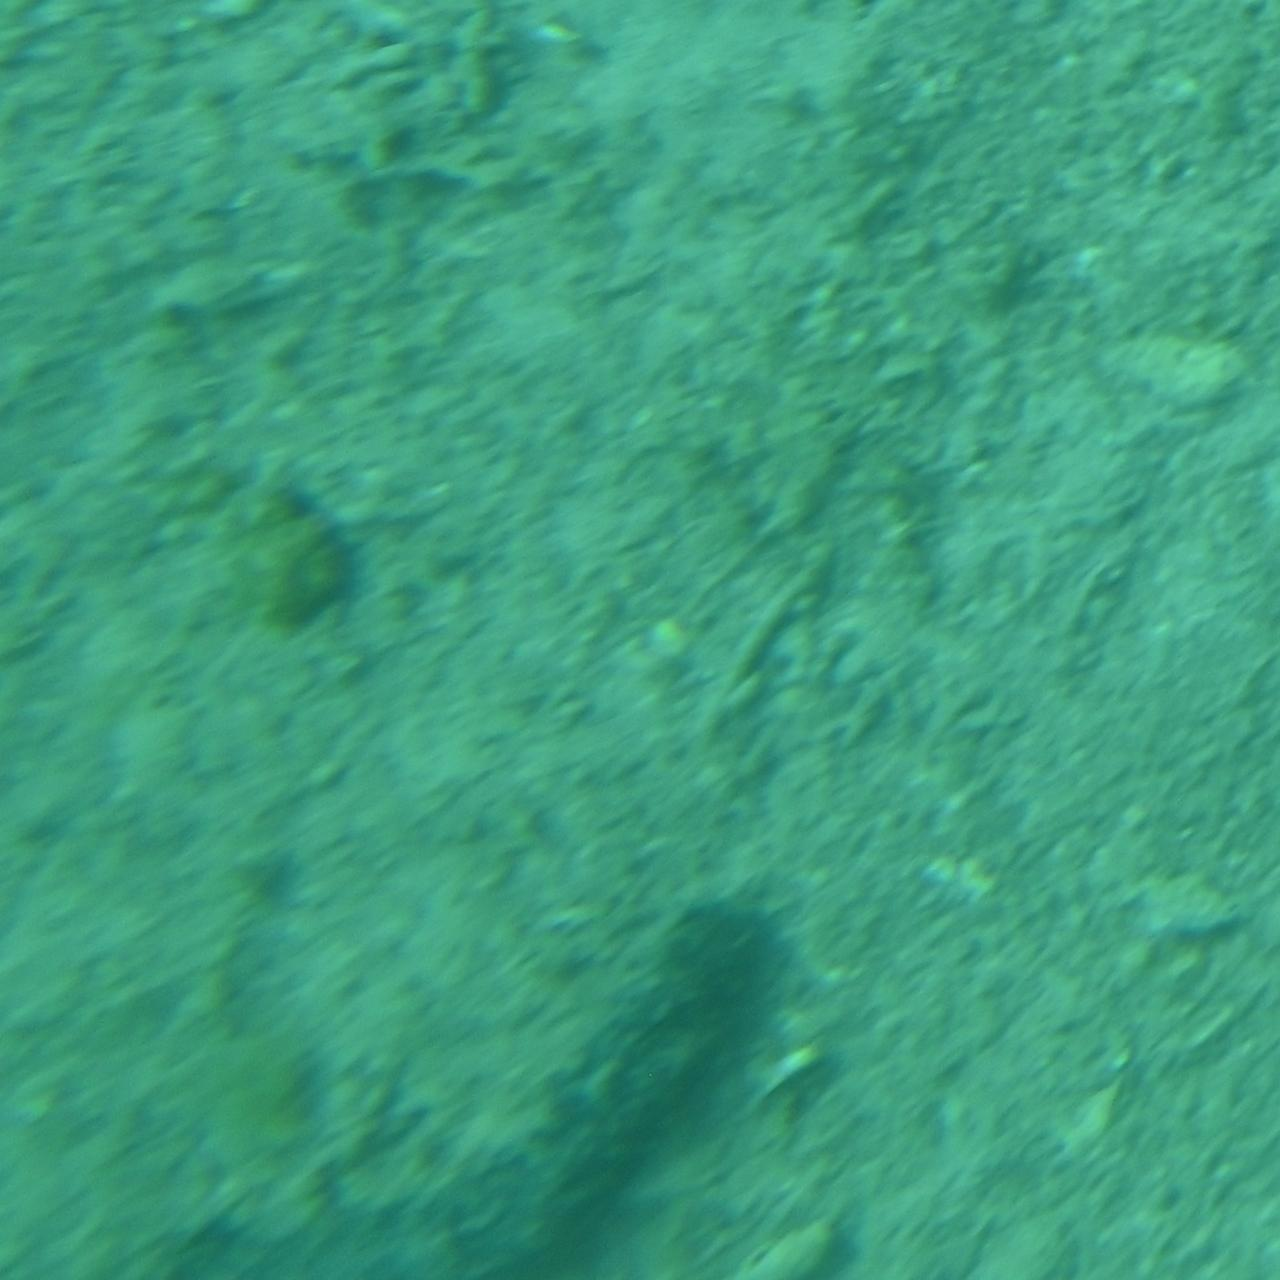Holothuria tubulosa: (122, 897, 774, 1280)
